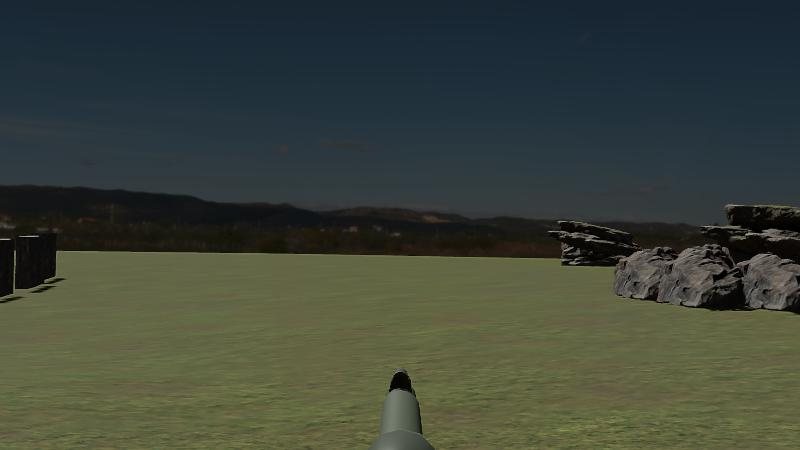Tank: (0, 186, 58, 308)
